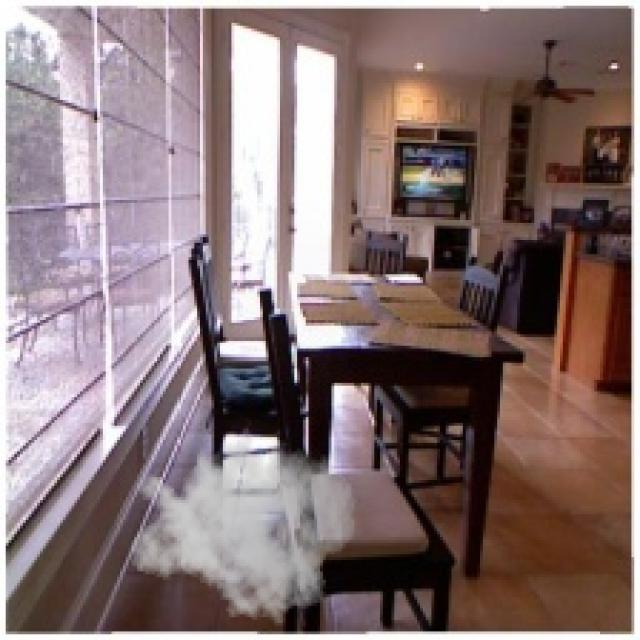smoke: (129, 417, 357, 632)
